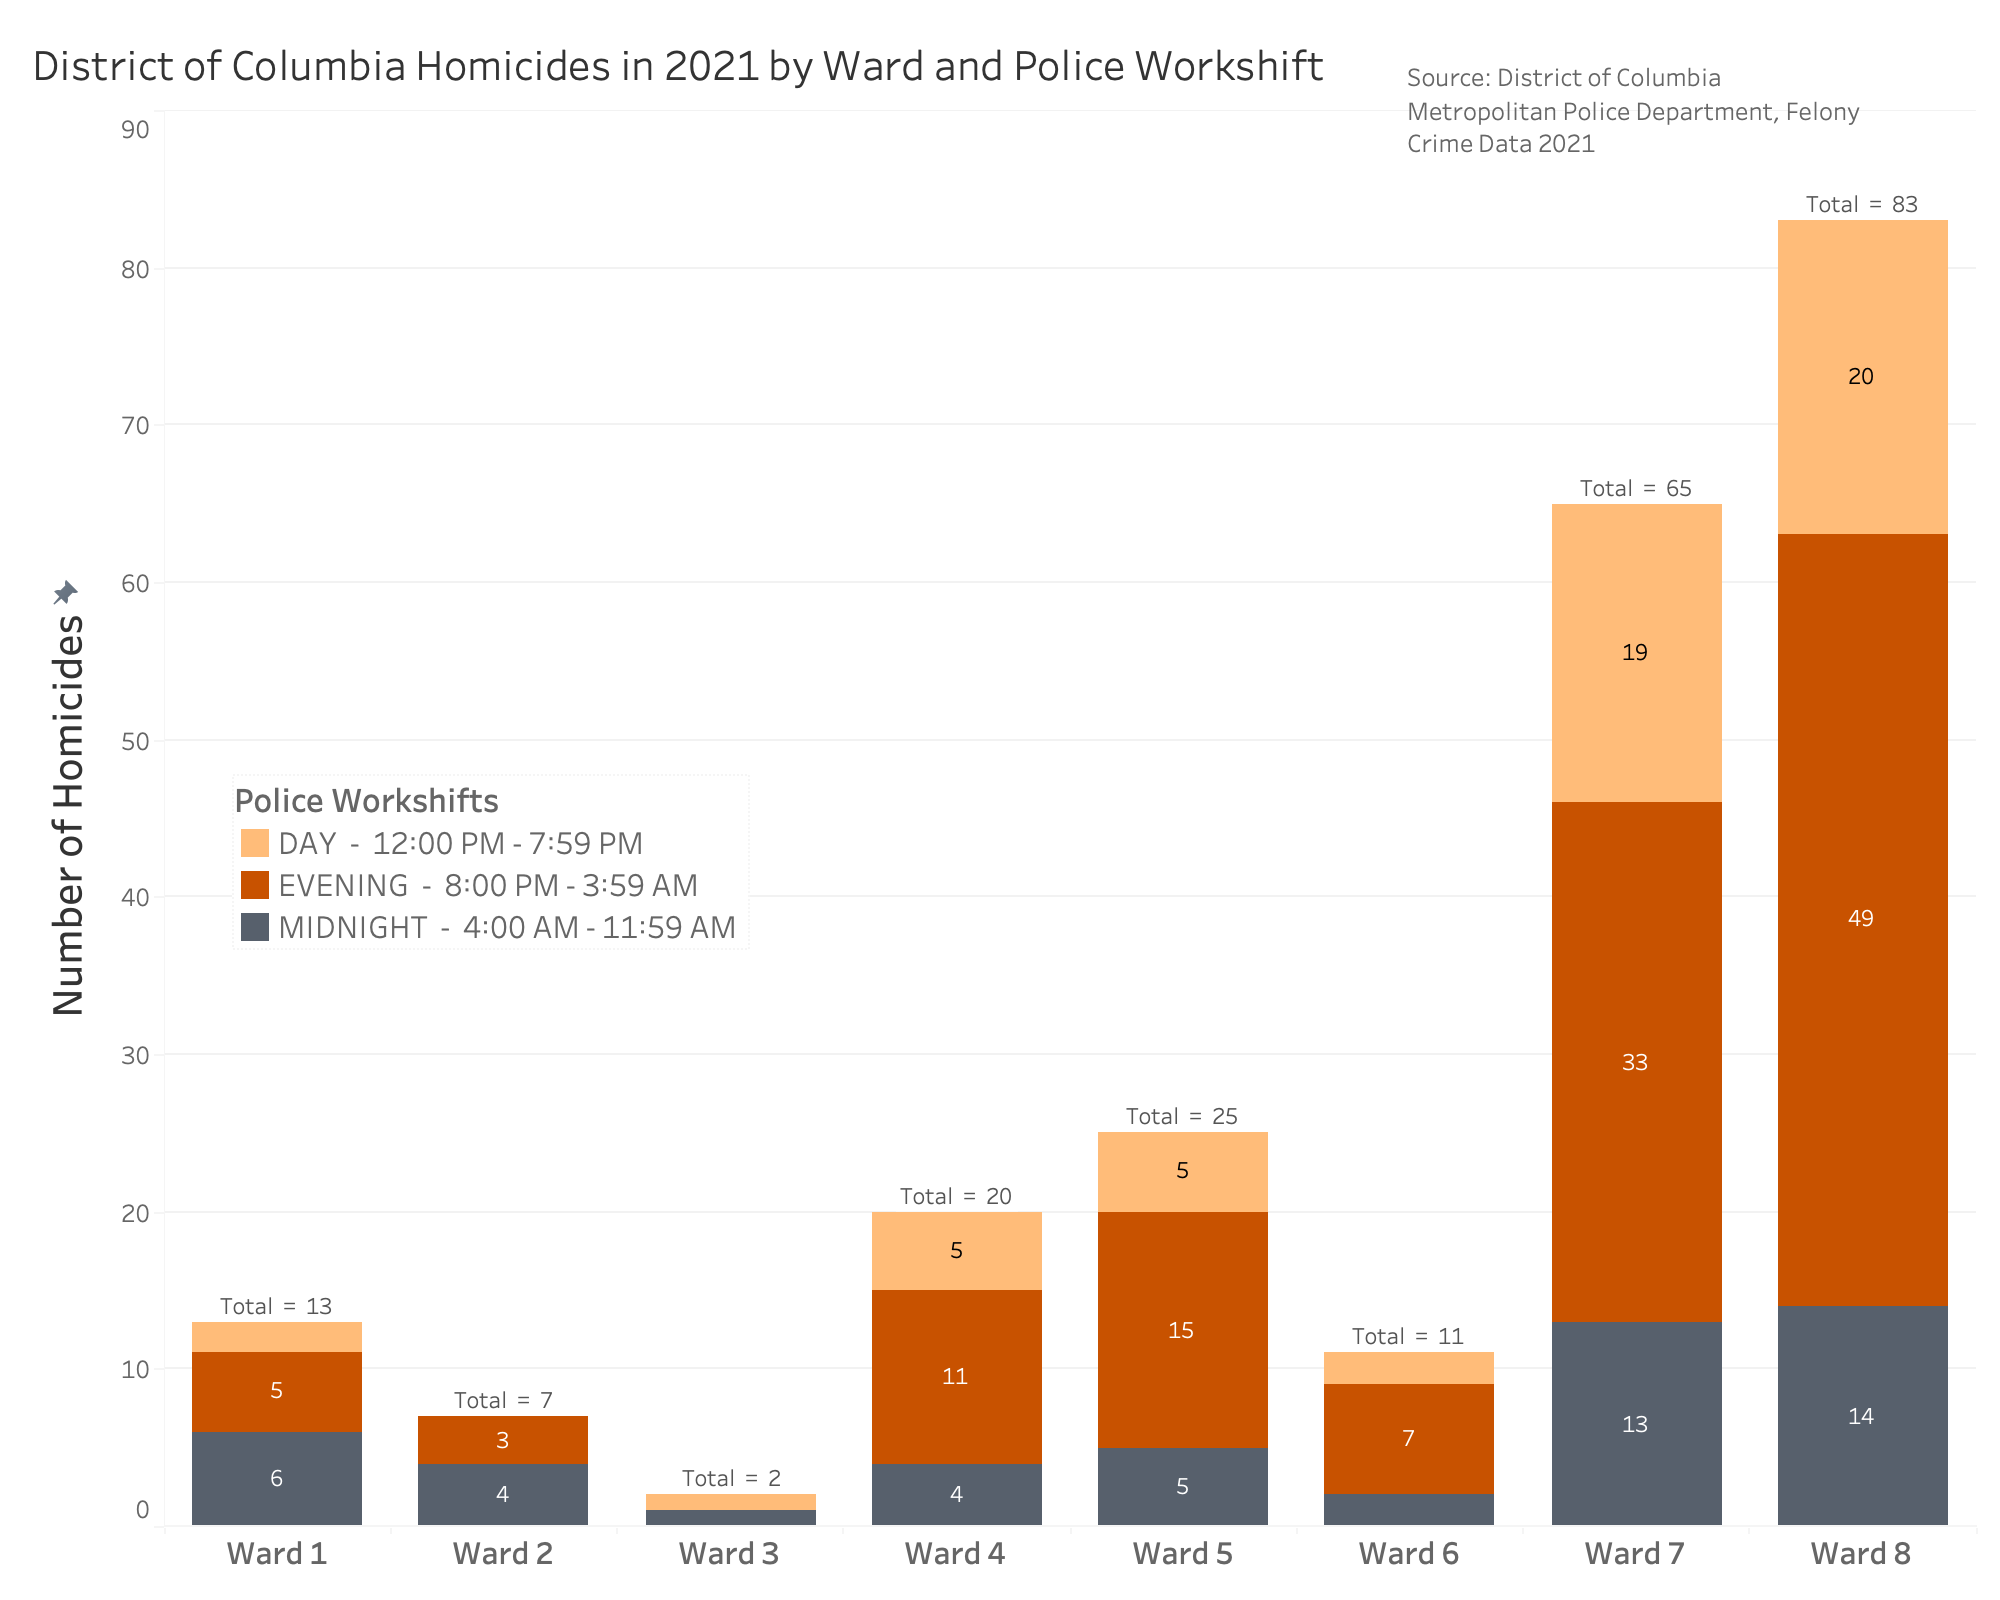

Layout of this report page (visuals, bound fields, positions):
{"tool":"tableau","page":{"name":"Dashboard 1","canvas":[1000,800],"ordinal":0},"visuals":[{"type":"worksheet","title":"Sheet 1","mark":"Automatic","rows":["DC_Homicides.csv_F7CFCFAB5BF742F792962101700CEF3F"],"cols":["WARD"],"box":[8,8,984,784]},{"type":"text","box":[701,13,237,85]},{"type":"legend","title":"Sheet 1","param":"[federated.1agvzt71eap74z1dpm2zt0tcpz16].[none:SHIFT:nk]","box":[116,387,259,97]}]}

Visuals, with their boxes in screenshot pixels (x1, y1, x2, y2), scaled from the page's 1000x800 canvas onto the 2000x1600 screenshot:
"Sheet 1" worksheet: (x1=16, y1=16, x2=1984, y2=1584)
text: (x1=1402, y1=26, x2=1876, y2=196)
"Sheet 1" legend: (x1=232, y1=774, x2=750, y2=968)
